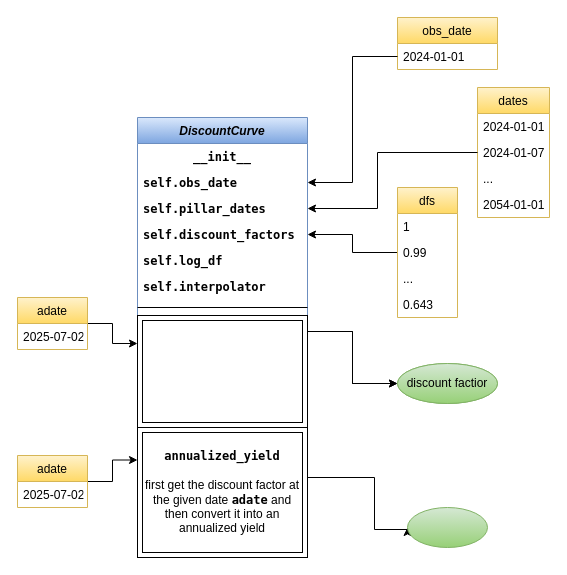
Image size: 567x575. Some labels were removed from this diagram. The centre of each missing label's shape, as x and y in pixels:
"df calculate the interpolated discount factor at date adate" goes at pixel 222 371.
"yield" goes at pixel 447 527.
